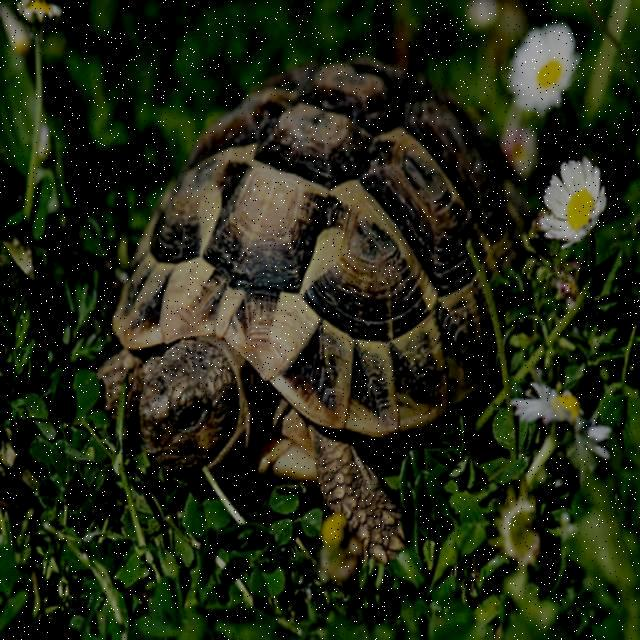tortoise: (119, 48, 546, 520)
